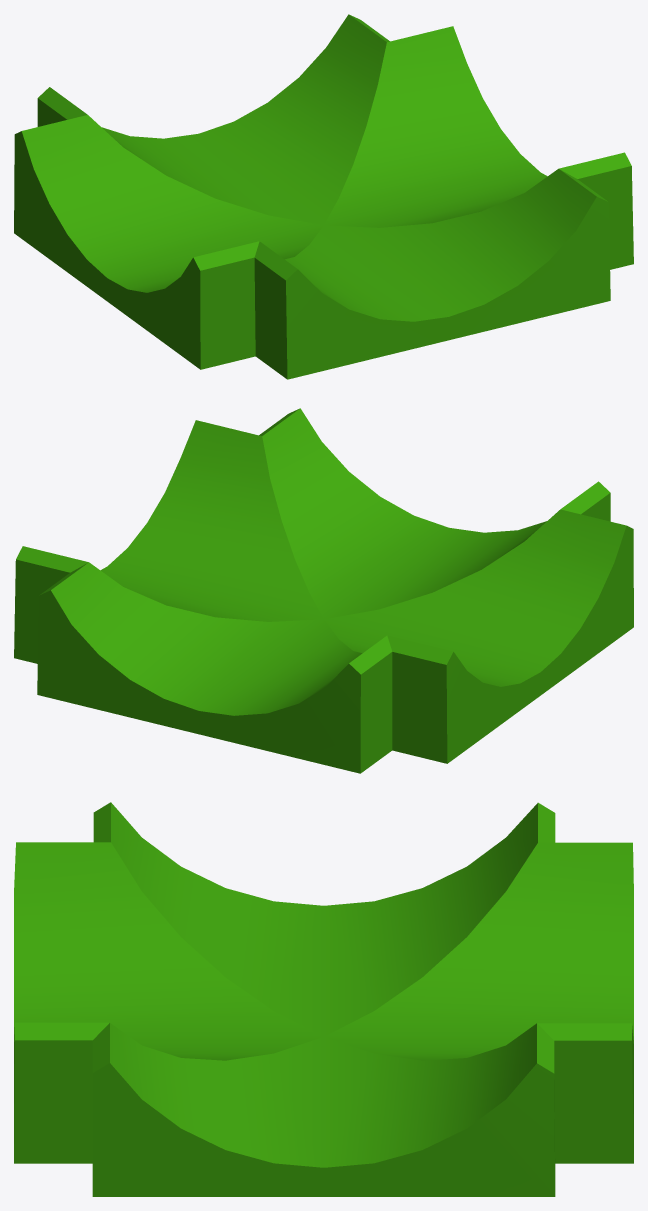
File: RoundCorr_Ceiling_XType_A.FBX
The picture shows the model from 3 angles, top to bottom: view 1: azimuth 30°, elevation 25°; view 2: azimuth 150°, elevation 25°; view 3: azimuth 270°, elevation 25°; orthographic projection. The views are drawn at different scales.
Parts seen in each view (by area): view 1: RoundCorr_Ceiling_XType_A; view 2: RoundCorr_Ceiling_XType_A; view 3: RoundCorr_Ceiling_XType_A.
Part boxes in pixels (x1,y1,x2,y2): RoundCorr_Ceiling_XType_A: (14, 14, 633, 379); RoundCorr_Ceiling_XType_A: (14, 408, 633, 773); RoundCorr_Ceiling_XType_A: (14, 802, 633, 1196).
Bounding box in the file's own units: 602 × 142 × 602.
